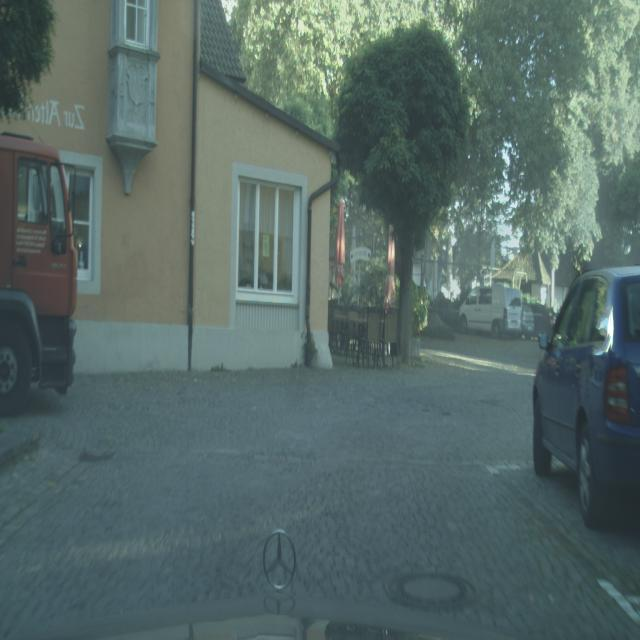bicycle: (0, 126, 78, 414)
bus: (532, 265, 640, 528), (456, 284, 532, 340)
